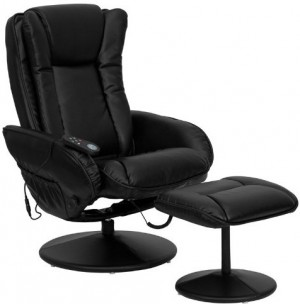chairs: (4, 5, 217, 275), (151, 178, 300, 304)
